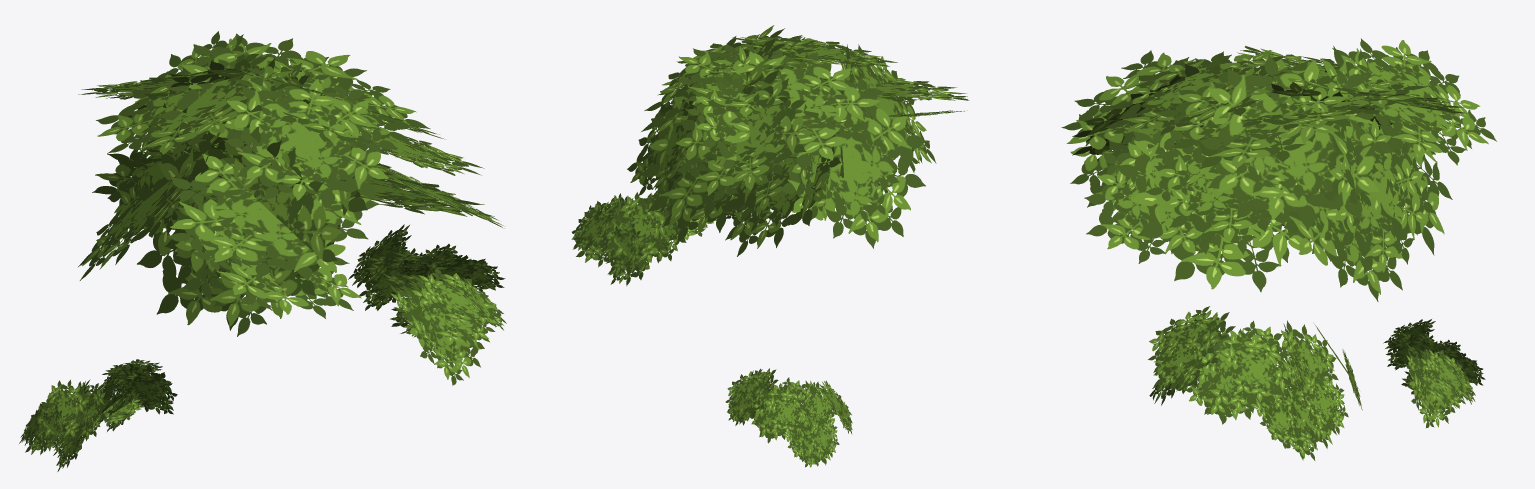
File: Lewis_Small_Tree_1_leaves.fbx
3 renders of one model, left to right at view 1: azimuth 30°, elevation 25°; view 2: azimuth 150°, elevation 25°; view 3: azimuth 270°, elevation 25°, orthographic. The views are drawn at different scales.
Parts seen in each view (by area): view 1: polySurface911; view 2: polySurface911; view 3: polySurface911.
Part boxes in pixels (box(x1,y1,x2,y2)): polySurface911: box(19, 31, 506, 471); polySurface911: box(571, 25, 969, 467); polySurface911: box(1061, 38, 1496, 460).
Bounding box in the file's own units: 1.74 × 1.64 × 1.67.
